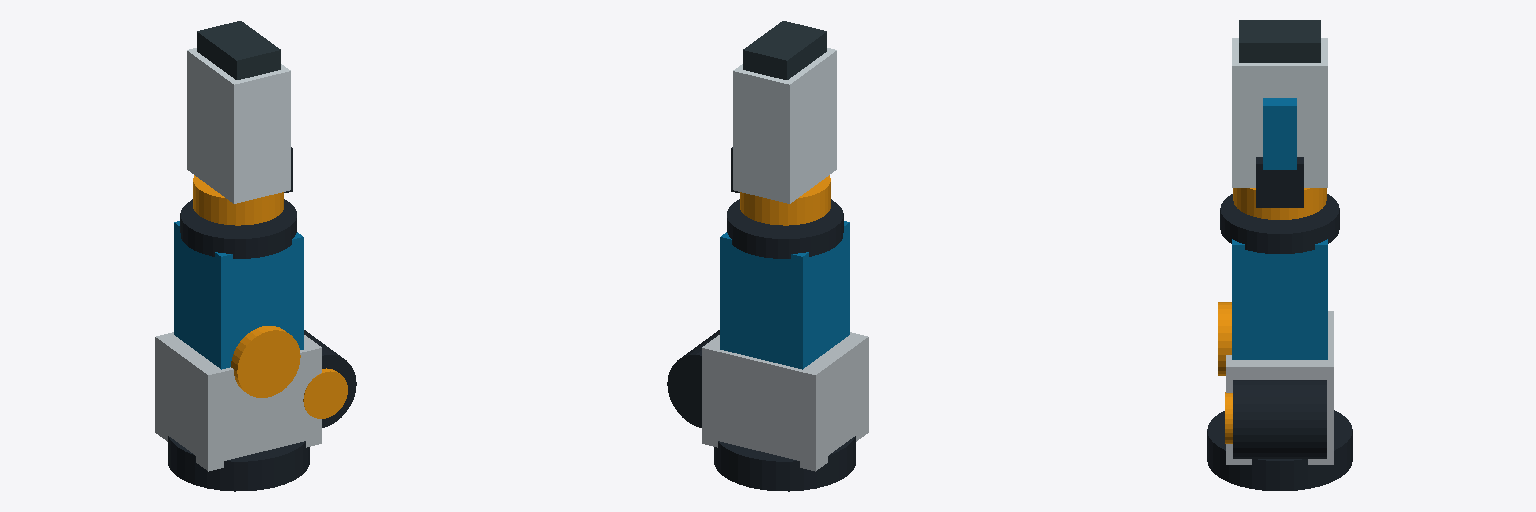
robot.urdf — ruggedized_wrist_web:
<?xml version="1.0" encoding="utf-8"?>
<robot name="ruggedized_wrist_web">
  <!-- Browser-optimized kinematic model. The two movable joints retain the axes
       and limits of the manufacturing URDF while primitive geometry keeps the
       interactive download small and deterministic. -->
  <material name="graphite"><color rgba="0.16 0.19 0.22 1"/></material>
  <material name="aluminum"><color rgba="0.76 0.79 0.81 1"/></material>
  <material name="wrist_blue"><color rgba="0.08 0.48 0.66 1"/></material>
  <material name="joint_gold"><color rgba="0.94 0.61 0.10 1"/></material>
  <material name="probe"><color rgba="0.82 0.86 0.88 1"/></material>
  <material name="probe_face"><color rgba="0.20 0.25 0.27 1"/></material>

  <link name="root"/>

  <link name="wrist_base">
    <visual>
      <origin xyz="0 0 0.009"/>
      <geometry><cylinder radius="0.039" length="0.018"/></geometry>
      <material name="graphite"/>
    </visual>
    <visual>
      <origin xyz="0 0 0.043"/>
      <geometry><box size="0.072 0.058 0.058"/></geometry>
      <material name="aluminum"/>
    </visual>
    <visual>
      <origin xyz="0.038 0 0.043" rpy="1.570796 0 0"/>
      <geometry><cylinder radius="0.022" length="0.050"/></geometry>
      <material name="graphite"/>
    </visual>
    <visual>
      <origin xyz="0.038 -0.027 0.043" rpy="1.570796 0 0"/>
      <geometry><cylinder radius="0.014" length="0.005"/></geometry>
      <material name="joint_gold"/>
    </visual>
  </link>
  <joint name="root_to_base" type="fixed">
    <parent link="root"/>
    <child link="wrist_base"/>
  </joint>

  <link name="roll_motor_housing">
    <visual>
      <origin xyz="0 0 0.034"/>
      <geometry><box size="0.052 0.052 0.068"/></geometry>
      <material name="wrist_blue"/>
    </visual>
    <visual>
      <origin xyz="0 0 0.071"/>
      <geometry><cylinder radius="0.032" length="0.012"/></geometry>
      <material name="graphite"/>
    </visual>
    <visual>
      <origin xyz="0 -0.029 0" rpy="1.570796 0 0"/>
      <geometry><cylinder radius="0.020" length="0.008"/></geometry>
      <material name="joint_gold"/>
    </visual>
  </link>
  <joint name="wrist_pitch_joint" type="revolute">
    <parent link="wrist_base"/>
    <child link="roll_motor_housing"/>
    <origin xyz="0 0 0.072"/>
    <axis xyz="0 1 0"/>
    <limit lower="-1.570796" upper="1.570796" effort="12" velocity="3.0"/>
  </joint>

  <link name="roll_output">
    <visual>
      <origin xyz="0 0 0.008"/>
      <geometry><cylinder radius="0.025" length="0.016"/></geometry>
      <material name="joint_gold"/>
    </visual>
    <visual>
      <origin xyz="0.021 0 0.021"/>
      <geometry><box size="0.012 0.026 0.026"/></geometry>
      <material name="graphite"/>
    </visual>
  </link>
  <joint name="wrist_roll_joint" type="revolute">
    <parent link="roll_motor_housing"/>
    <child link="roll_output"/>
    <origin xyz="0 0 0.082"/>
    <axis xyz="0 0 1"/>
    <limit lower="-3.141593" upper="3.141593" effort="8" velocity="4.0"/>
  </joint>

  <link name="gecko_attachment">
    <visual>
      <origin xyz="0 0 0.036"/>
      <geometry><box size="0.036 0.052 0.072"/></geometry>
      <material name="probe"/>
    </visual>
    <visual>
      <origin xyz="0 0 0.078"/>
      <geometry><box size="0.028 0.044 0.012"/></geometry>
      <material name="probe_face"/>
    </visual>
    <visual>
      <origin xyz="0.023 0 0.034"/>
      <geometry><box size="0.010 0.018 0.038"/></geometry>
      <material name="wrist_blue"/>
    </visual>
  </link>
  <joint name="roll_output_to_gecko" type="fixed">
    <parent link="roll_output"/>
    <child link="gecko_attachment"/>
    <origin xyz="0 0 0.016"/>
  </joint>
</robot>

--- What the picture shows (computed from the rendered views, not written in the file) ---
Views: 3 orthographic renders of the robot side by side, from view 1: azimuth 30°, elevation 25°; view 2: azimuth 150°, elevation 25°; view 3: azimuth 270°, elevation 25°.
Model ruggedized_wrist_web with 5 links and 4 joints (2 revolute, 2 fixed), rooted at root, posed all joints at 0.
Visible links, largest first — view 1: wrist_base, roll_motor_housing, gecko_attachment, roll_output; view 2: wrist_base, roll_motor_housing, gecko_attachment, roll_output; view 3: wrist_base, roll_motor_housing, gecko_attachment, roll_output.
Link boxes in pixels (box(x1,y1,x2,y2)): wrist_base: box(155, 330, 356, 491); roll_motor_housing: box(174, 199, 303, 397); gecko_attachment: box(187, 21, 290, 203); roll_output: box(193, 147, 292, 225); wrist_base: box(667, 330, 868, 491); roll_motor_housing: box(720, 199, 849, 369); gecko_attachment: box(733, 21, 836, 203); roll_output: box(731, 147, 830, 225); wrist_base: box(1207, 311, 1352, 490); roll_motor_housing: box(1218, 194, 1339, 375); gecko_attachment: box(1232, 20, 1327, 187); roll_output: box(1233, 157, 1326, 219).
Bounding box of the posed robot: 0.099 × 0.078 × 0.254 m (x, y, z).
Geometry: primitives only (box / cylinder / sphere), no mesh files.
